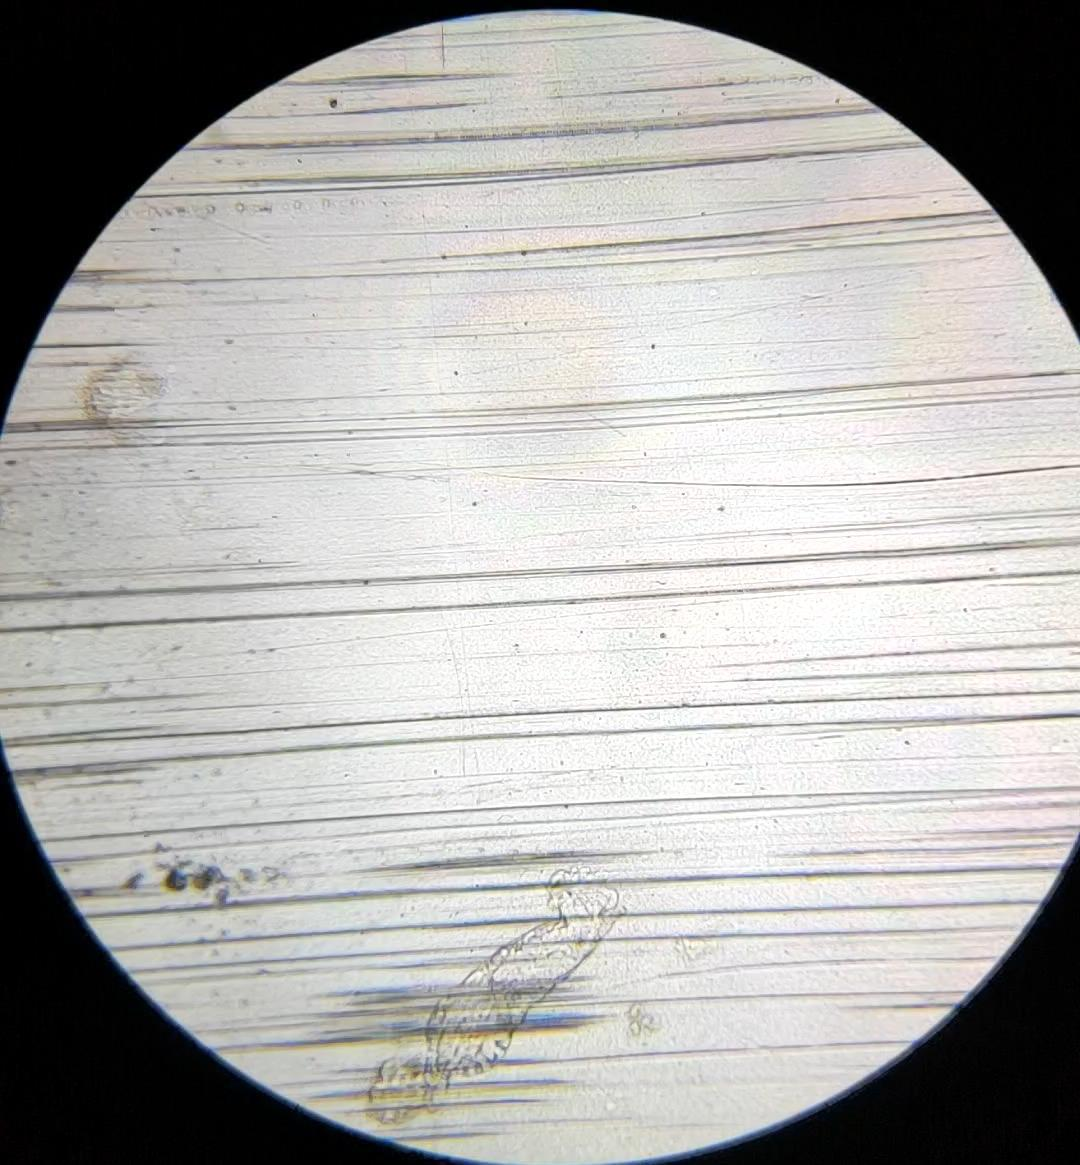Do: (425, 865, 626, 1088)
